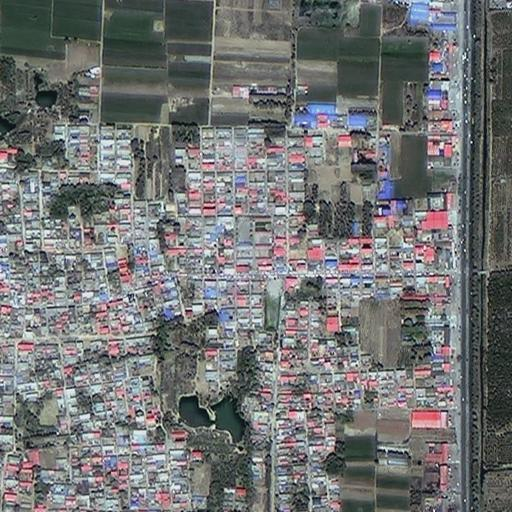school: (235, 213, 273, 275)
